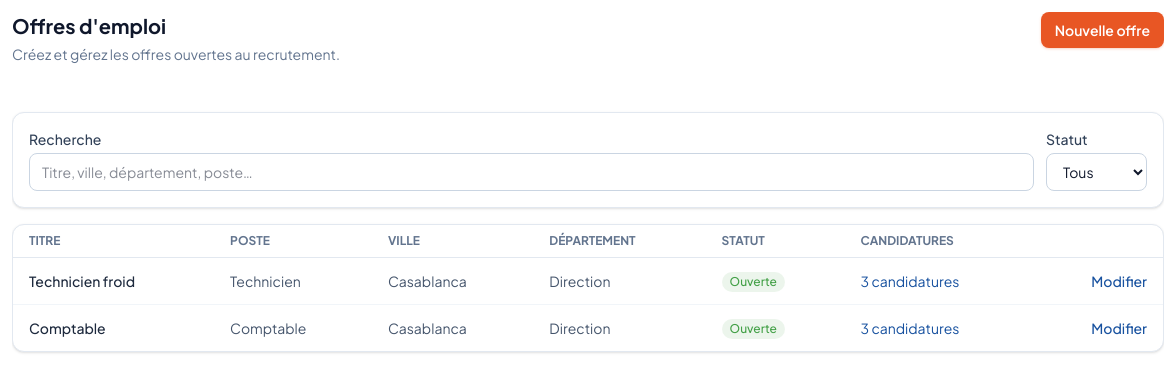
Test: JobOffersPage › filters offers by the search box without a server round-trip
The image size is (1176, 370).
Check: the text "Technicien froid" is shown, box x1=13 y1=258 x2=214 y2=304
Check: the 1st text "Comptable" is shown, box x1=13 y1=304 x2=214 y2=351
In the field with placeholder "Titre, ville, département, poste…": (532, 172) x1=29 y1=153 x2=1034 y2=191, type "froid"
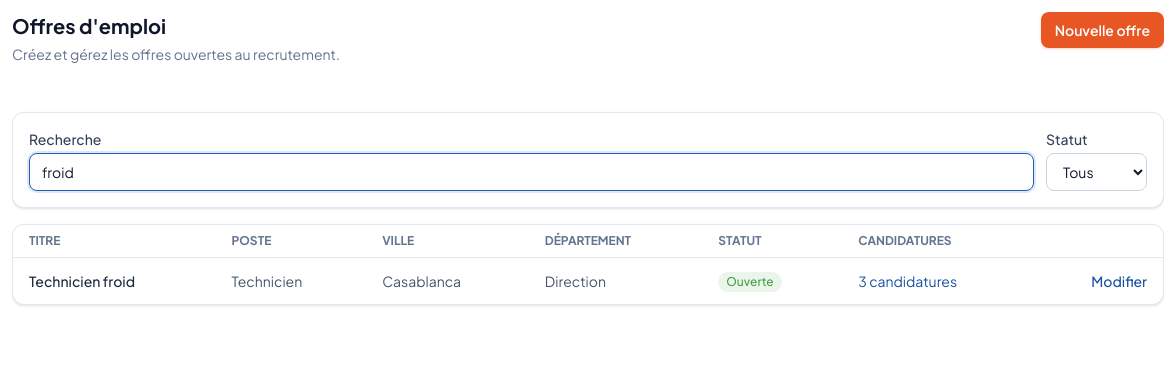
Check: the text "Technicien froid" is shown, box x1=13 y1=258 x2=216 y2=304
Check: the text "Comptable" is gone
